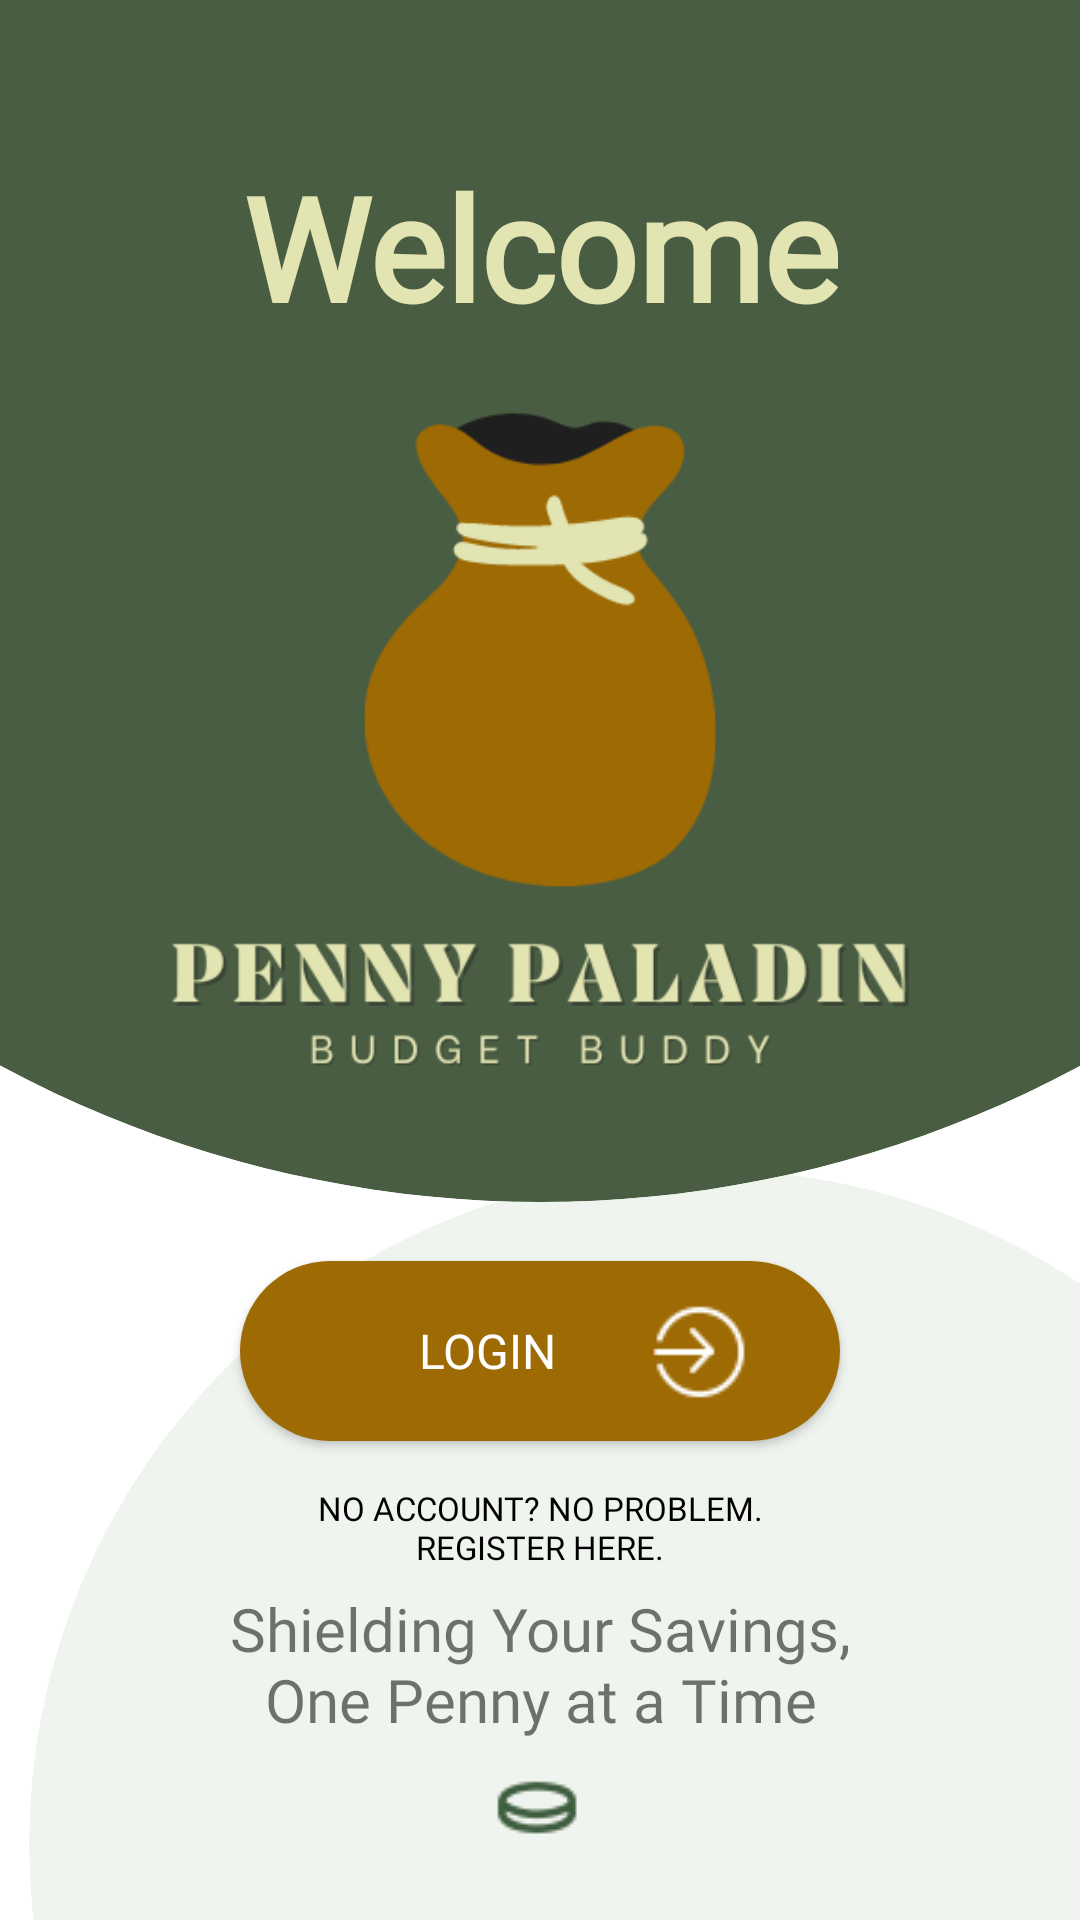

Icon click points for this 1080*1920 phone screenshot, format (x,y):
Coin: (537,1807)
